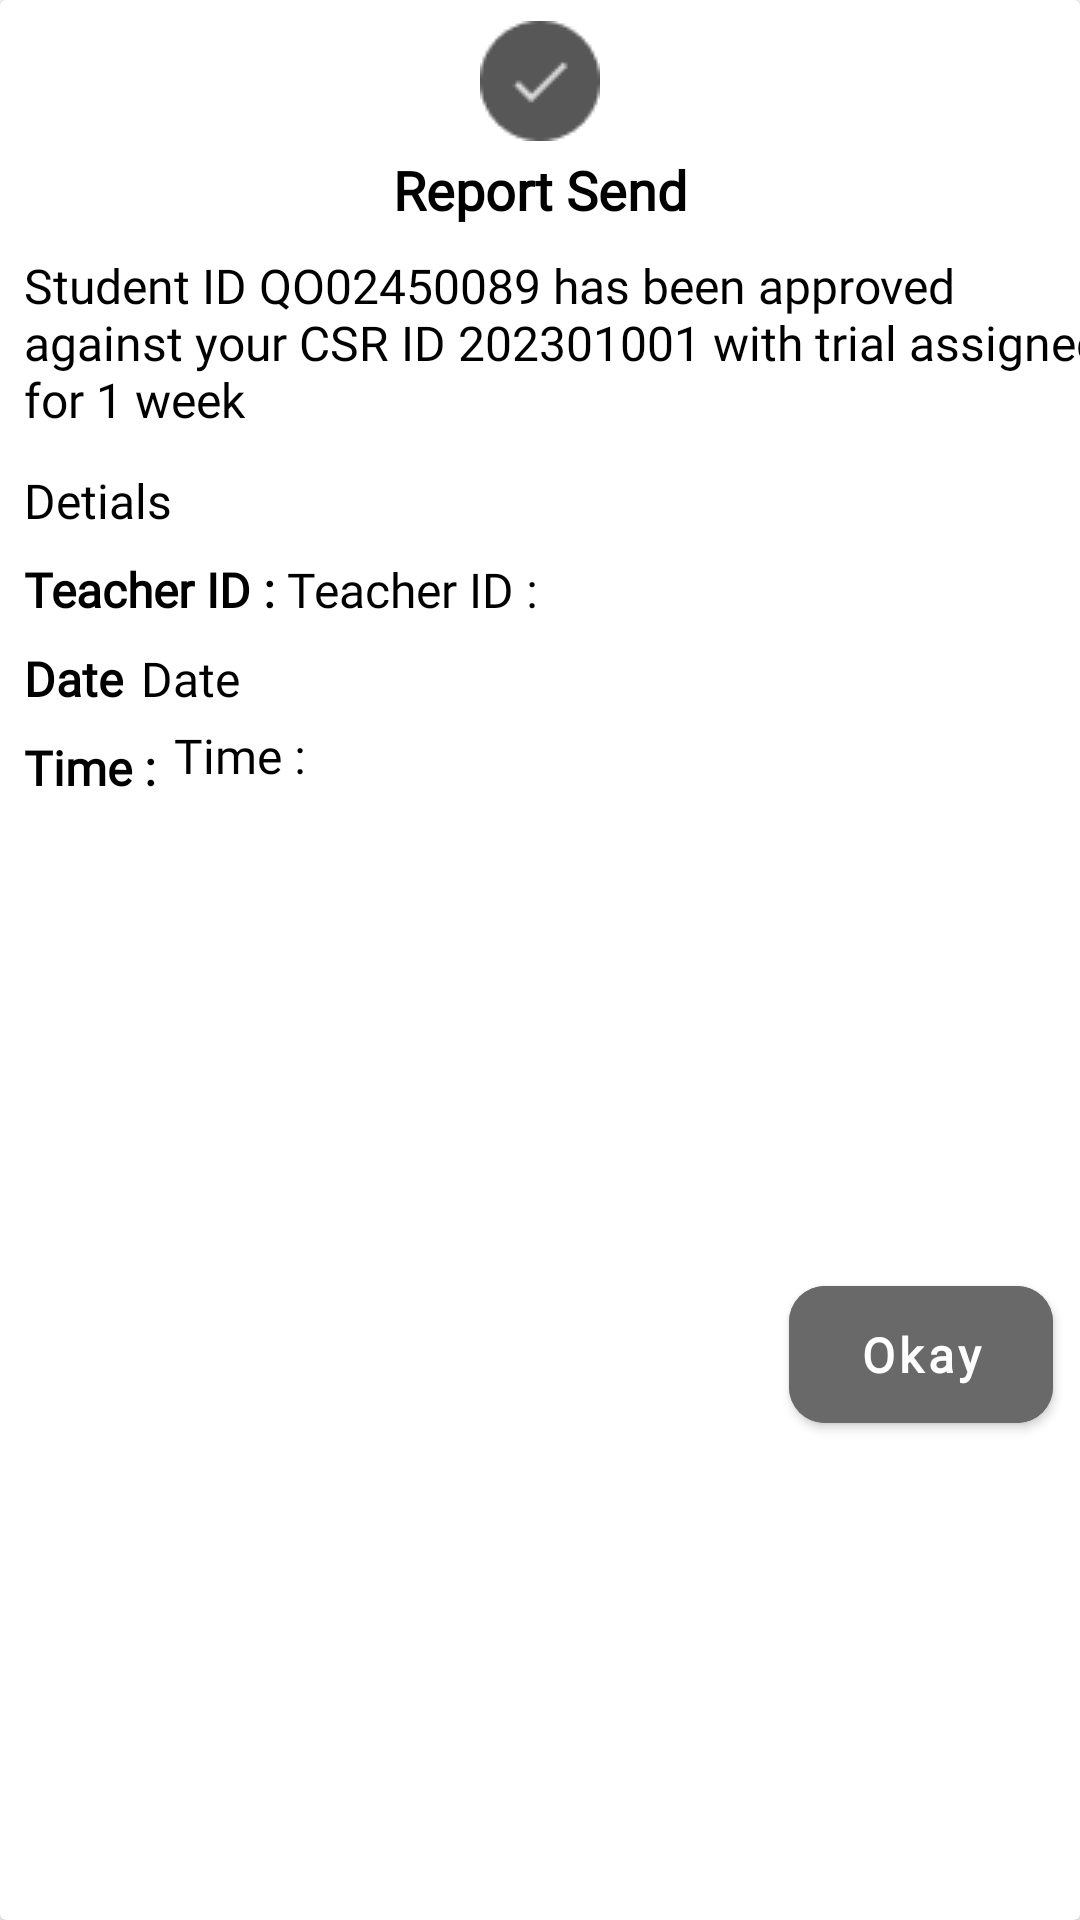

Where icons sit on this 1080 x 1920 app screen, as rect(x1, y1, x2, y2):
tick: rect(480, 21, 600, 141)
